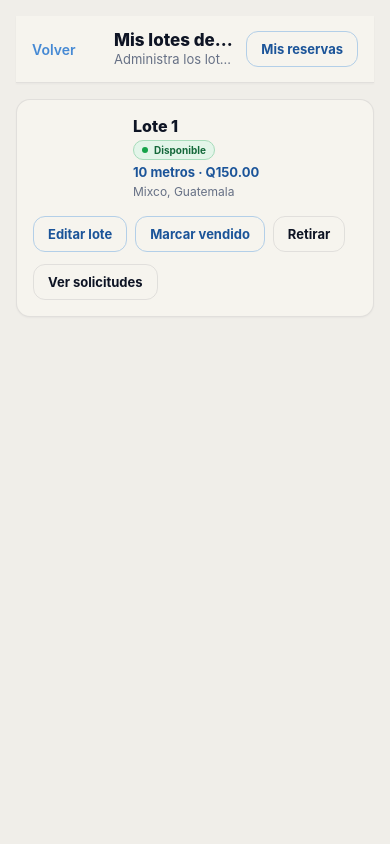
Test: MyMaterialListingsScreen — confirmar y refrescar › bloquea la confirmacion mientras la accion esta en curso (sin doble envio)
Check: the text "Lote 1" is shown, box [133,116,178,136]
Click the text "Retirar": (309, 234) [288,226,330,242]
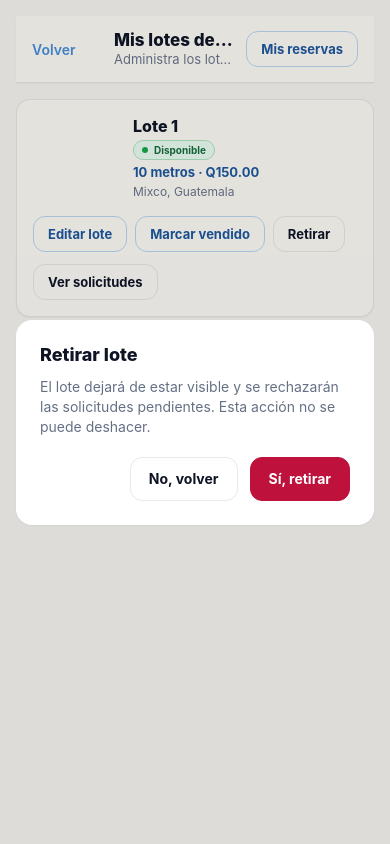
Click the text "Sí, retirar": (300, 478) [268,470,331,487]
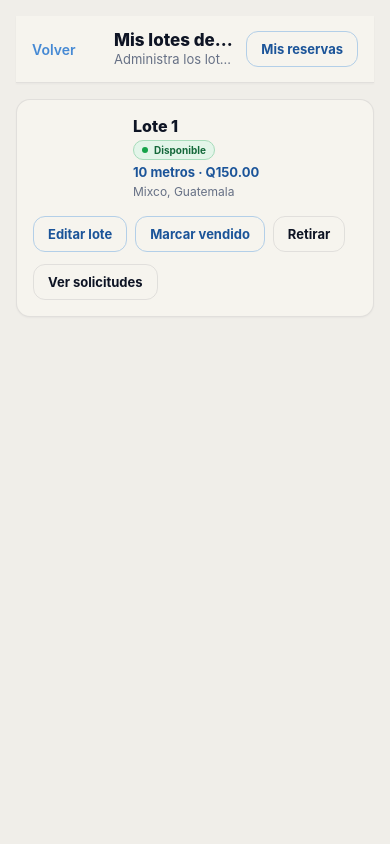
Check: the text "Sí, retirar" is gone
